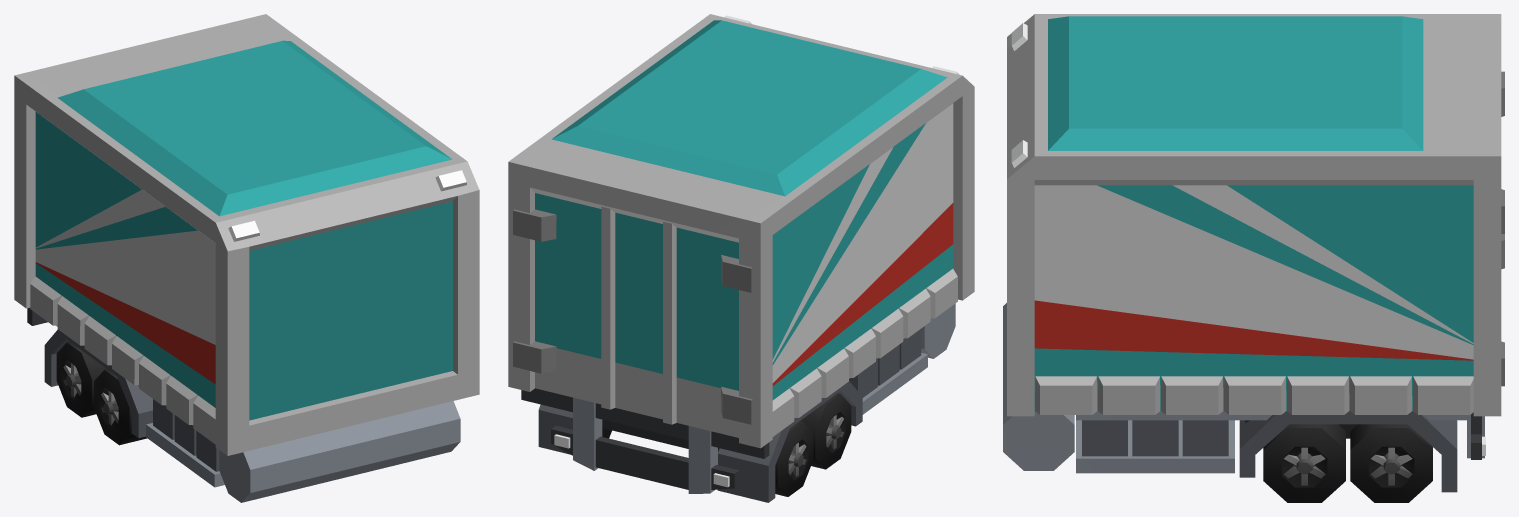
File: cargo_03_A_2.fbx
The picture shows the model from 3 angles, left to right: view 1: azimuth 30°, elevation 25°; view 2: azimuth 150°, elevation 25°; view 3: azimuth 270°, elevation 25°; orthographic projection. The views are drawn at different scales.
Visible parts, largest first — view 1: cargo_03_A_2; view 2: cargo_03_A_2; view 3: cargo_03_A_2.
Boxes of the visible parts, <box> form: cargo_03_A_2: <box>14,14,479,502</box>; cargo_03_A_2: <box>508,14,974,502</box>; cargo_03_A_2: <box>1003,14,1504,502</box>.
Size of the model in its own units: 14.51 by 17.42 by 21.63.
